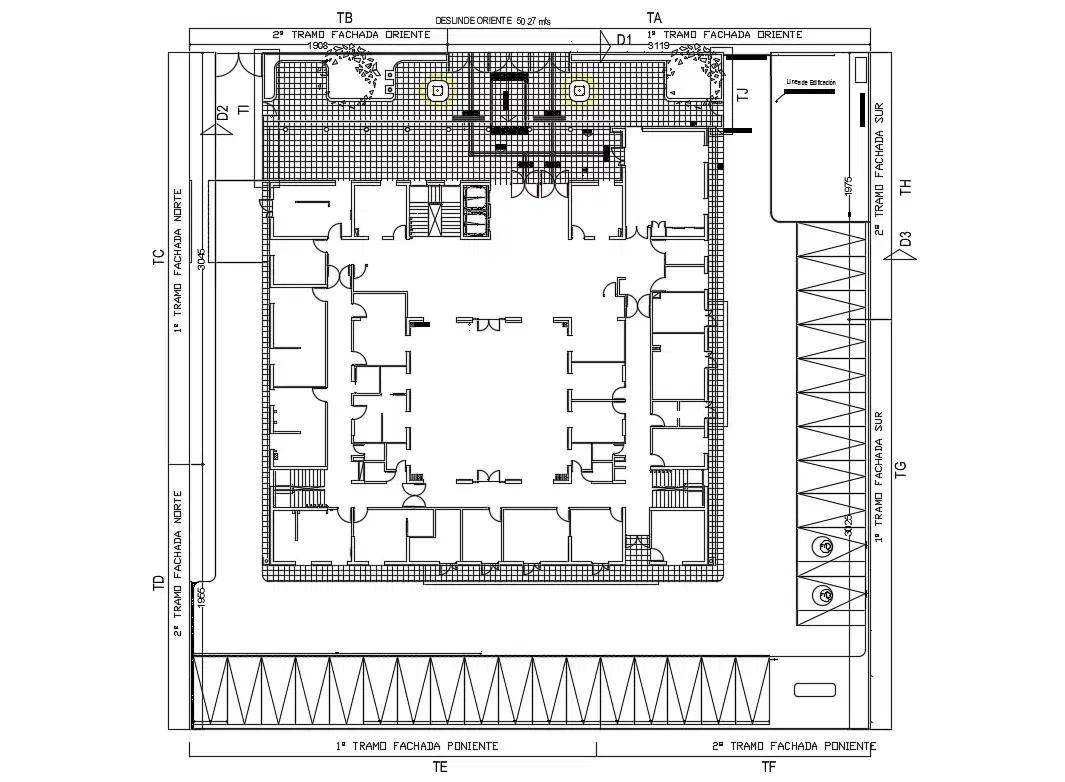room: (624, 130, 707, 238), (270, 287, 326, 387), (269, 387, 327, 468), (272, 508, 353, 563), (272, 183, 352, 238), (353, 292, 408, 366), (651, 332, 706, 401), (502, 508, 571, 562), (651, 509, 706, 564), (353, 183, 407, 238), (570, 184, 624, 239), (353, 508, 408, 562), (570, 508, 623, 563), (270, 238, 326, 286), (353, 394, 409, 442), (569, 400, 625, 443), (651, 427, 706, 469), (461, 508, 502, 562), (652, 292, 705, 333), (570, 361, 624, 400), (651, 400, 705, 428)
